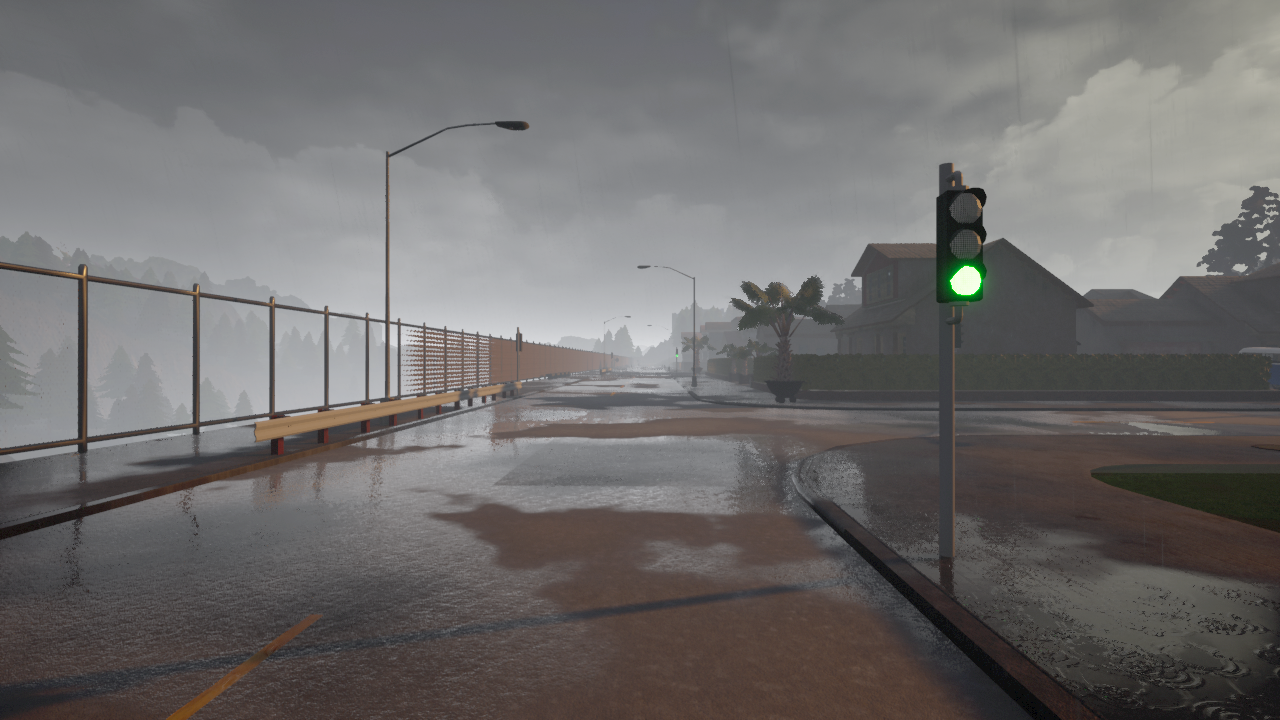green: (934, 185, 992, 303)
